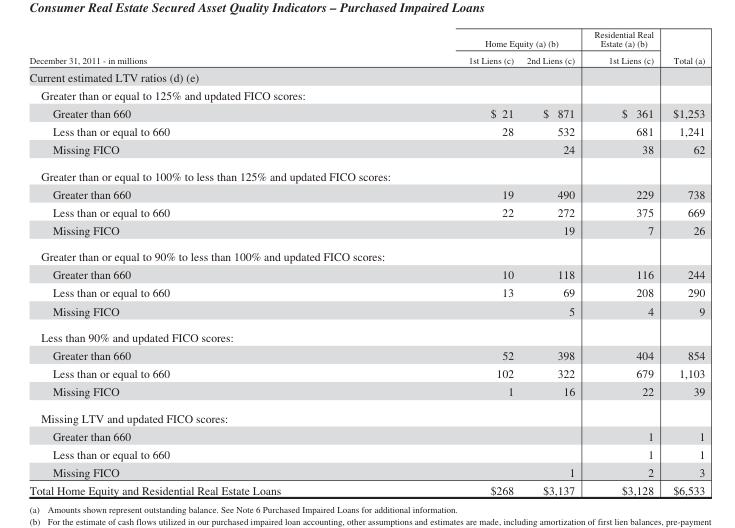table: (28, 28, 704, 496)
table column: (28, 28, 374, 496), (374, 28, 519, 496), (583, 28, 662, 496), (519, 28, 583, 496), (662, 28, 704, 496)
table column header: (28, 28, 704, 67)
table projected row header: (28, 323, 704, 346), (28, 162, 704, 184), (28, 243, 704, 265), (28, 404, 704, 426), (28, 85, 704, 104), (28, 67, 704, 85)
table row: (28, 28, 704, 51), (28, 220, 704, 243), (28, 323, 704, 346), (28, 140, 704, 162), (28, 162, 704, 184), (28, 243, 704, 265), (28, 301, 704, 323), (28, 382, 704, 404), (28, 404, 704, 426), (28, 85, 704, 104), (28, 462, 704, 481), (28, 67, 704, 85), (28, 104, 704, 122), (28, 122, 704, 140), (28, 184, 704, 202), (28, 202, 704, 220), (28, 265, 704, 283), (28, 283, 704, 301), (28, 346, 704, 364), (28, 364, 704, 382), (28, 426, 704, 444), (28, 444, 704, 462), (28, 51, 704, 67), (28, 481, 704, 496)
table spanning cell: (28, 28, 374, 67), (374, 28, 583, 51), (583, 28, 662, 67), (662, 28, 704, 67)
